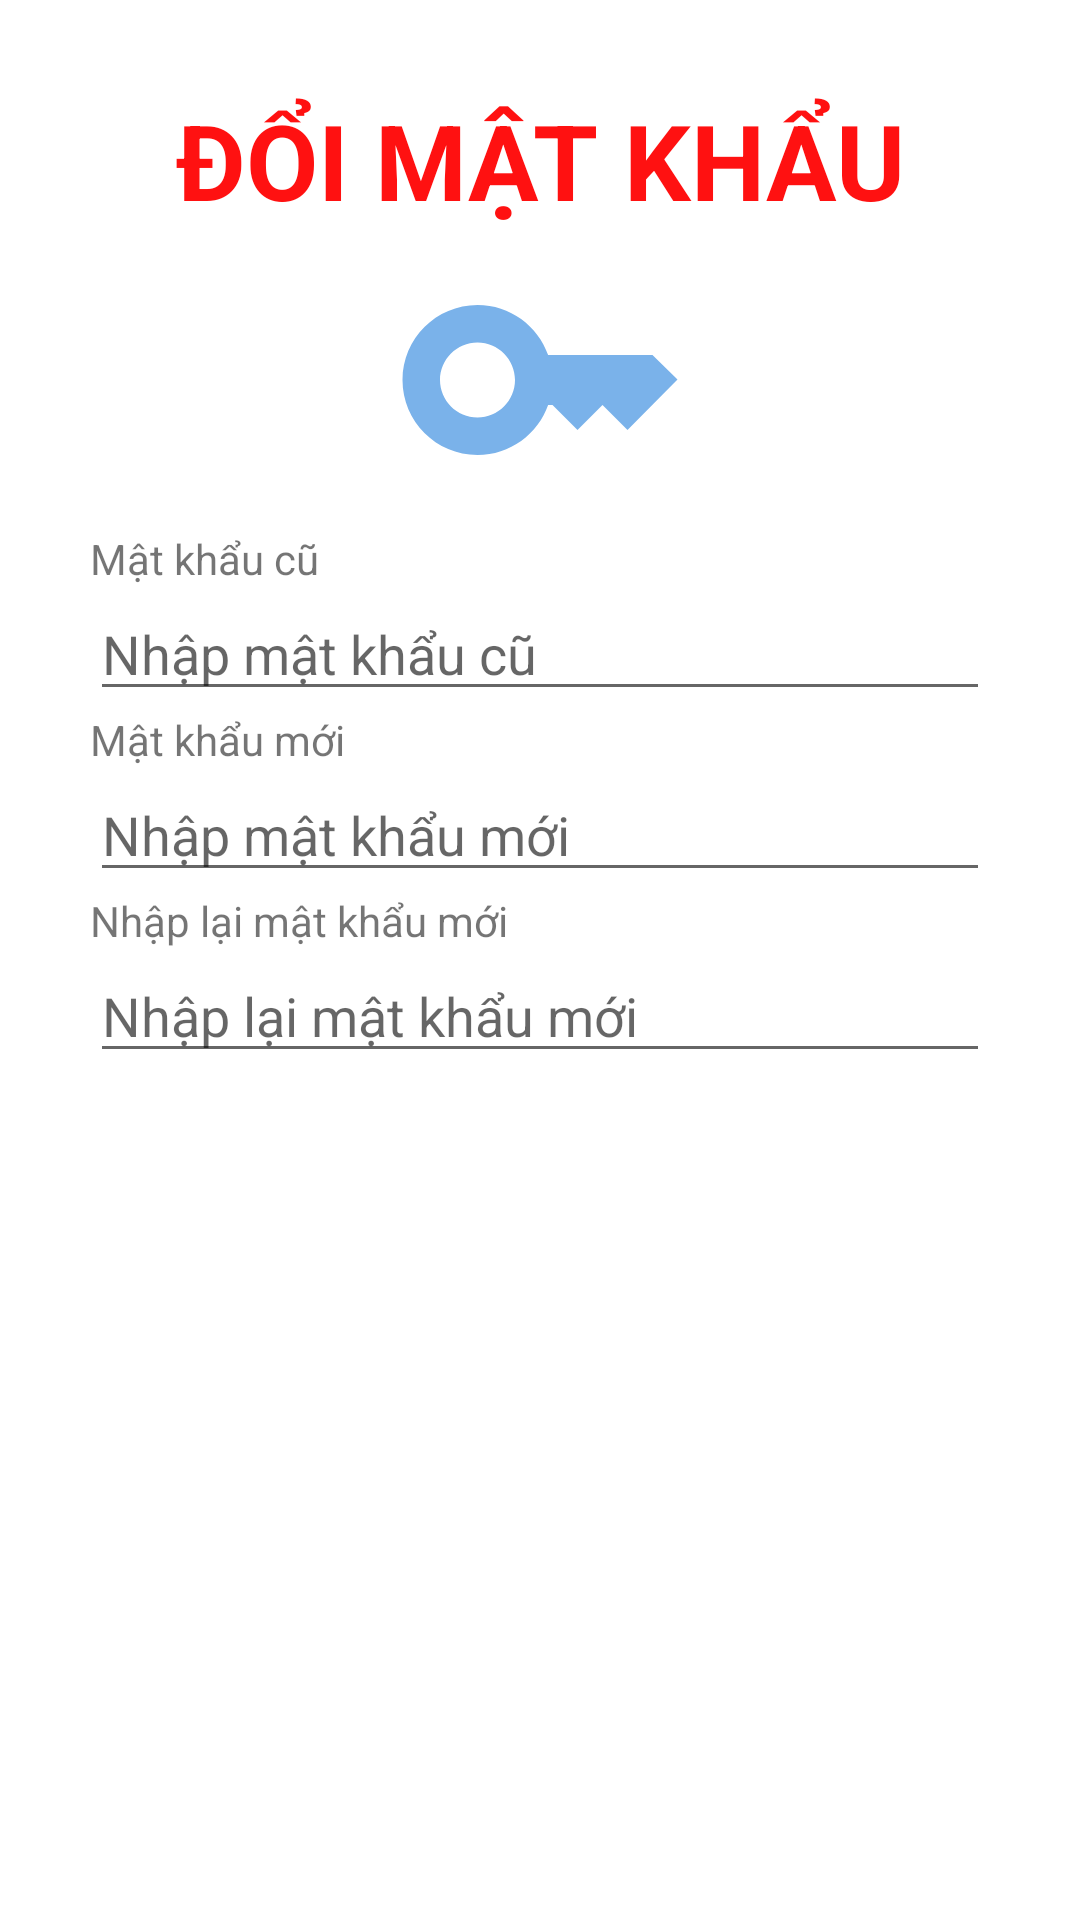

Locate icon controls on the screen. Image size 1080px x 1920px, boxes as (x1, y1, x2, y2).
key: (402, 305, 678, 455)
